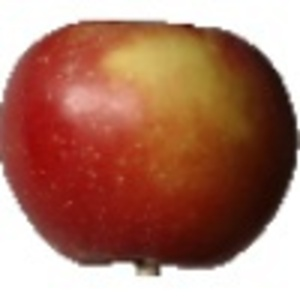maçã braeburn: (1, 17, 299, 267)
